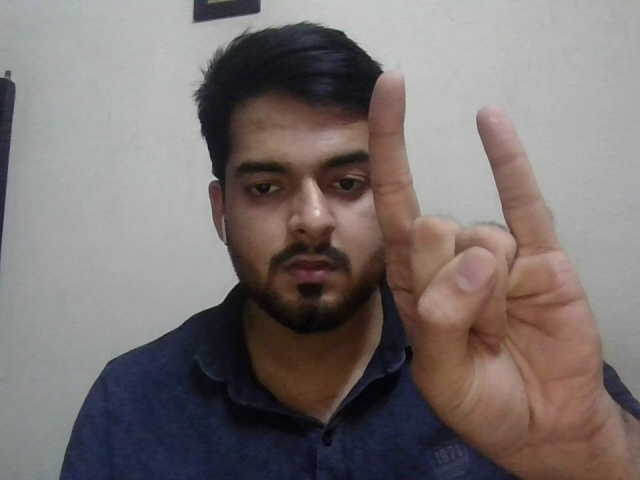iloveyou: (370, 67, 622, 446)
